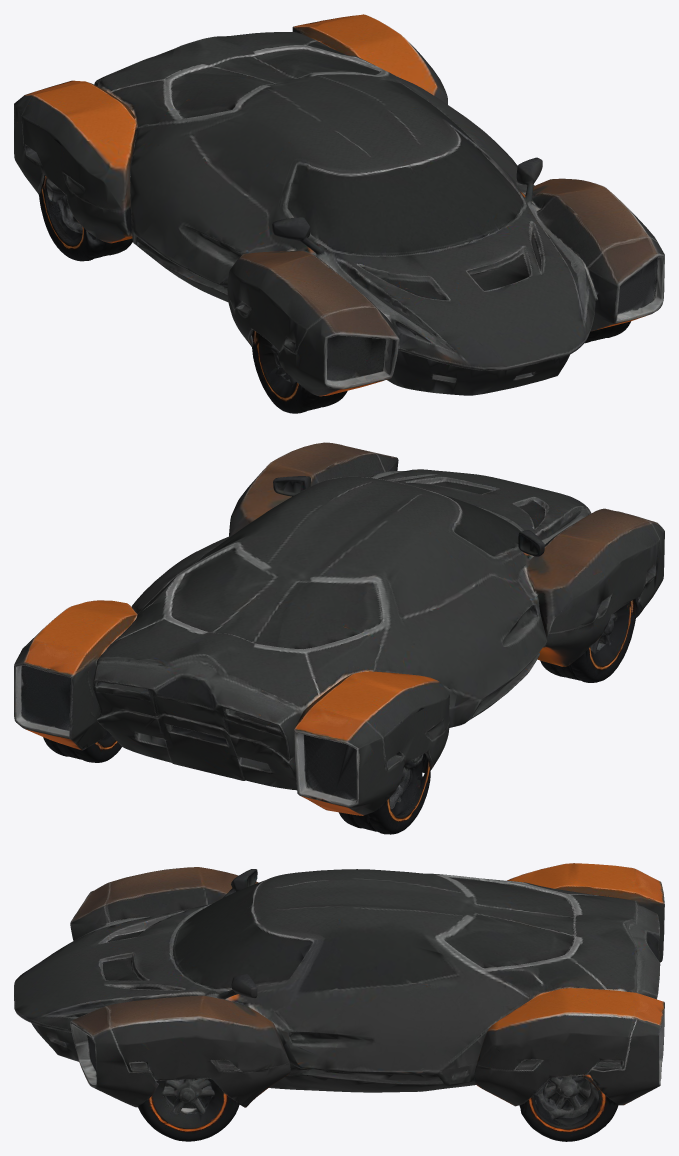
The model's file is roadster_rush_apexRivalInterceptor.glb.
3 renders of one model, top to bottom at view 1: azimuth 30°, elevation 25°; view 2: azimuth 150°, elevation 25°; view 3: azimuth 270°, elevation 25°, orthographic. The views are drawn at different scales.
Bounding box in the file's own units: 1.12 × 0.5705 × 1.9.
1 material, 1 textured.
